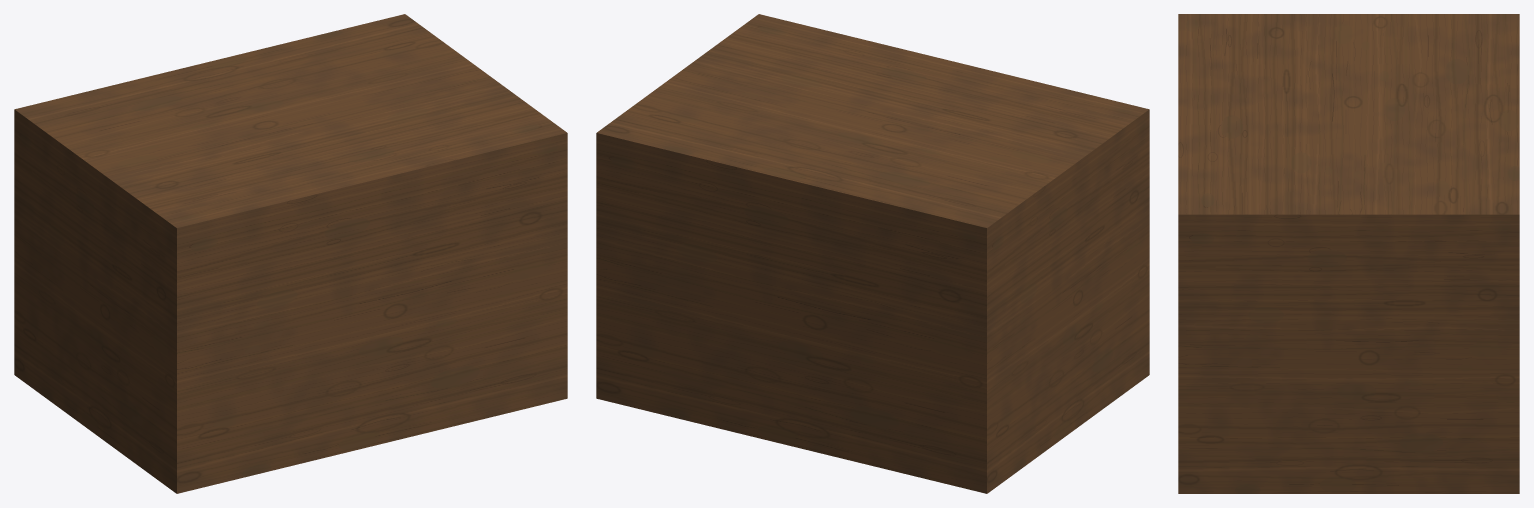
File: pr-004_supply_crate__closed.obj
3 renders of one model, left to right at view 1: azimuth 30°, elevation 25°; view 2: azimuth 150°, elevation 25°; view 3: azimuth 270°, elevation 25°, orthographic. The views are drawn at different scales.
Parts seen in each view (by area): view 1: pr-004_supply_crate__closed; view 2: pr-004_supply_crate__closed; view 3: pr-004_supply_crate__closed.
Boxes of the visible parts, x1,y1,x2,y2 form: pr-004_supply_crate__closed: (14,14,567,493); pr-004_supply_crate__closed: (596,14,1149,493); pr-004_supply_crate__closed: (1178,14,1519,493).
Size of the model in its own units: 1 by 0.65 by 0.72.
Materials: 2 (2 with a texture image).
